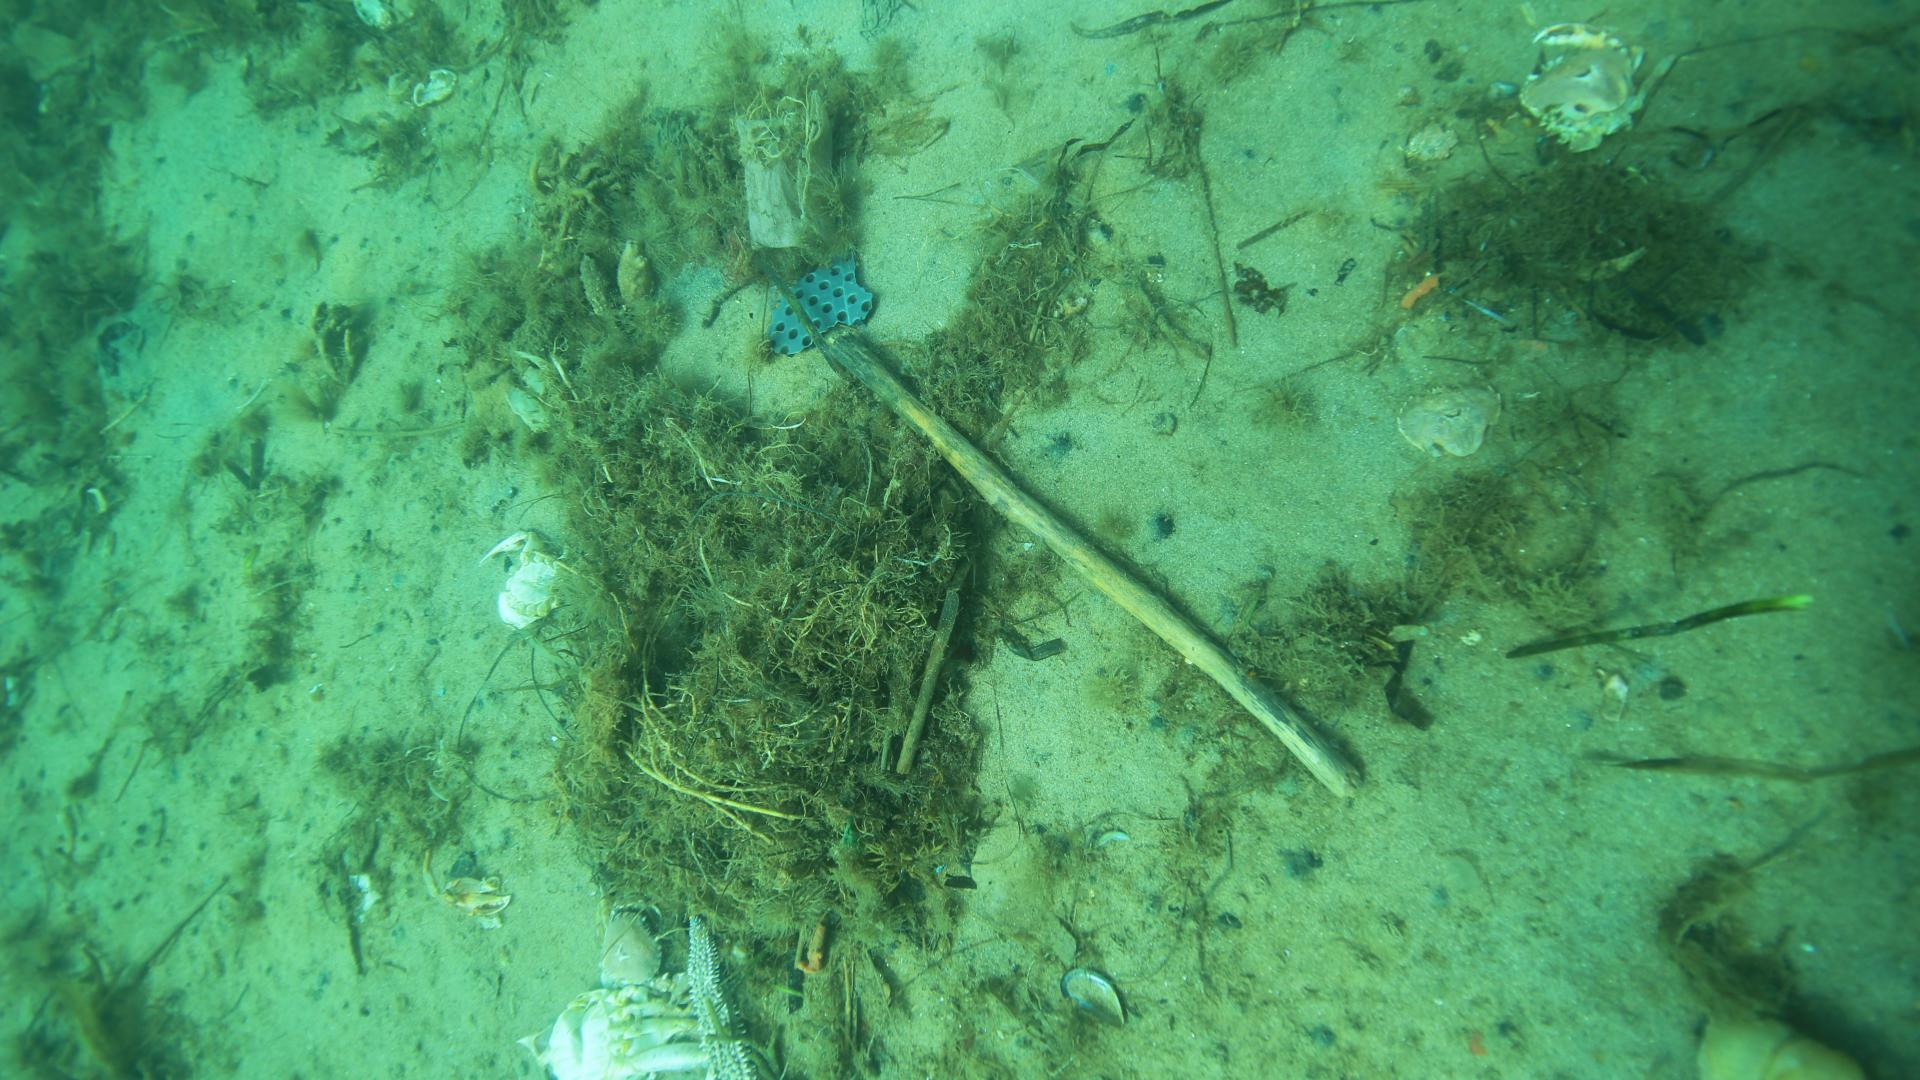wood: (825, 331, 1367, 806)
